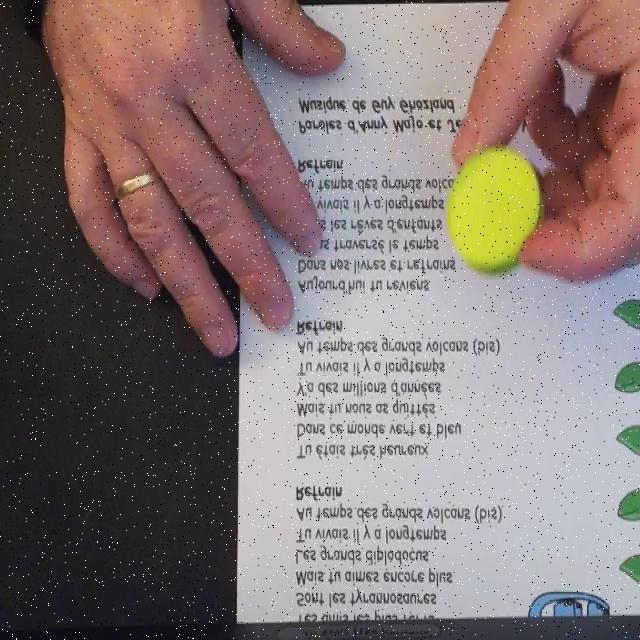round: (445, 146, 545, 278)
